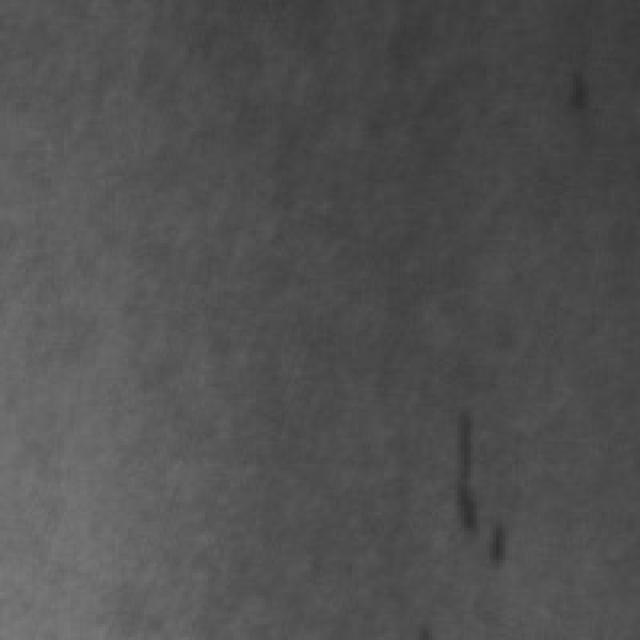inclusion: (438, 397, 516, 573), (550, 51, 596, 122)
